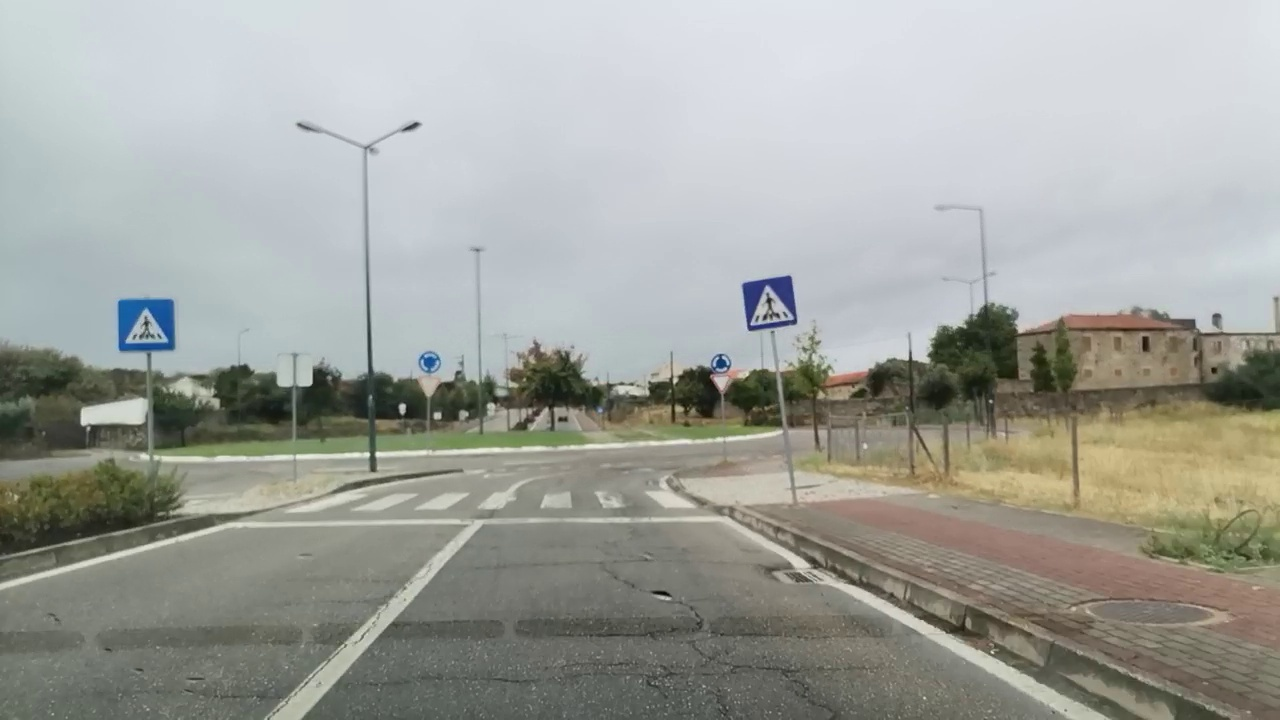Stairs: (287, 488, 699, 512)
